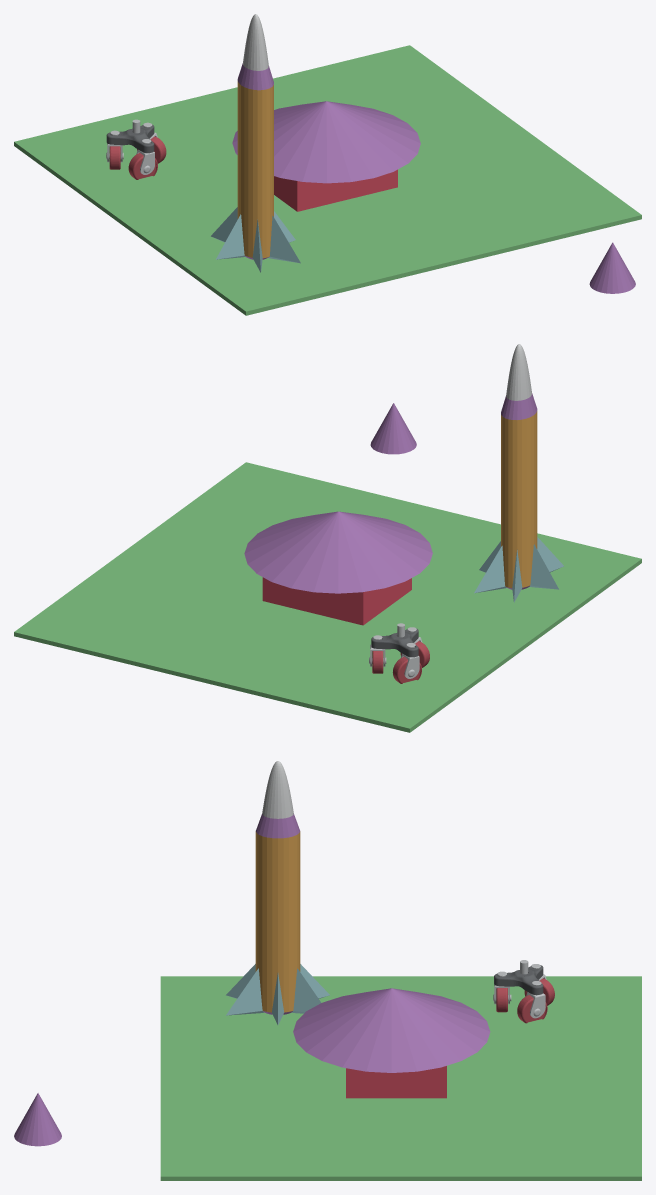
Rendered from asset.glb.
3 views of the same model, one above another, from view 1: azimuth 30°, elevation 25°; view 2: azimuth 150°, elevation 25°; view 3: azimuth 270°, elevation 25° (orthographic). The views are drawn at different scales.
Visible parts, largest first — view 1: Mesh_Mesh_head_geo.001_lambert2SG.001; view 2: Mesh_Mesh_head_geo.001_lambert2SG.001; view 3: Mesh_Mesh_head_geo.001_lambert2SG.001.
Boxes of the visible parts, left/top/right/bottom form: Mesh_Mesh_head_geo.001_lambert2SG.001: left=14, top=14, right=641, bottom=315; Mesh_Mesh_head_geo.001_lambert2SG.001: left=14, top=344, right=641, bottom=732; Mesh_Mesh_head_geo.001_lambert2SG.001: left=14, top=761, right=641, bottom=1180.
Size of the model in its own units: 197 by 116 by 261.
